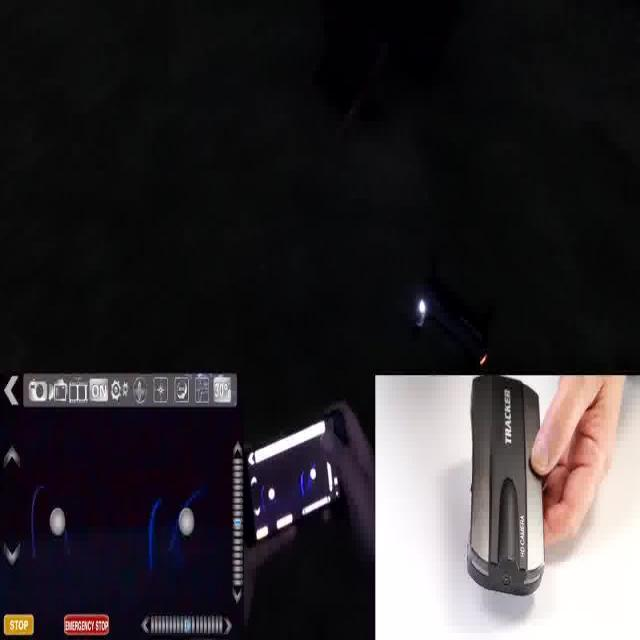drones: (400, 238, 509, 382)
